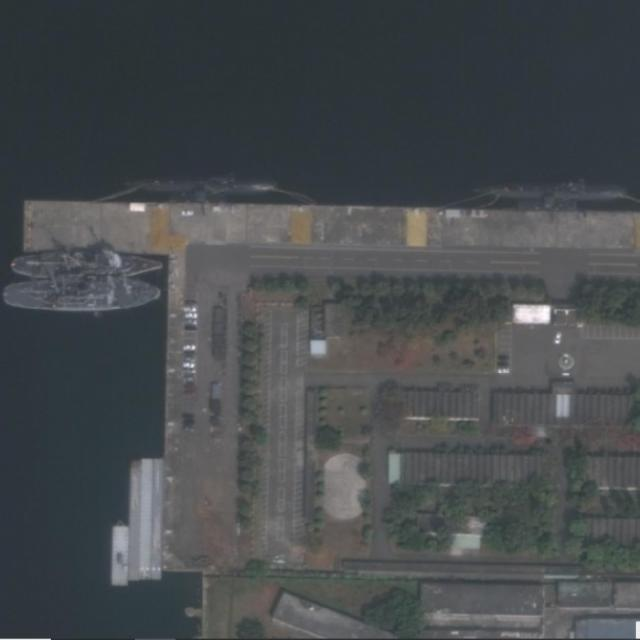Other Warship: (3, 280, 162, 312), (12, 253, 160, 278)
Submarine: (485, 184, 625, 200), (123, 178, 277, 192)
